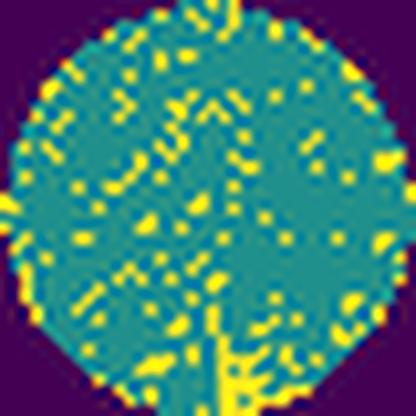Edge-Loc: (205, 304, 317, 416)
